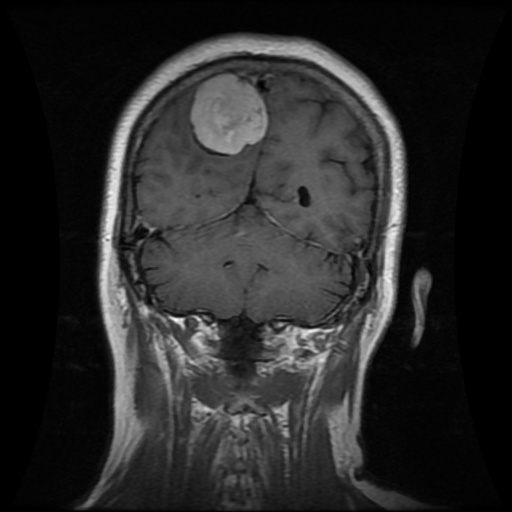meningioma: (189, 72, 267, 155)
